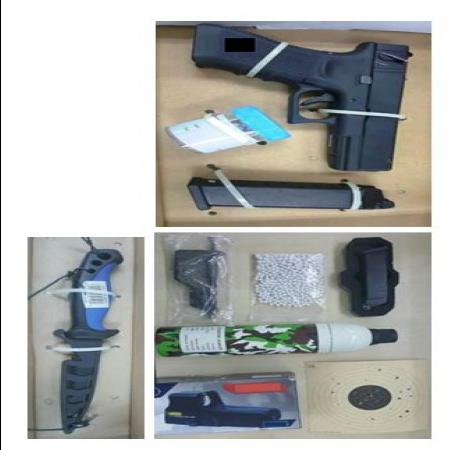Pistol: (192, 24, 410, 174)
